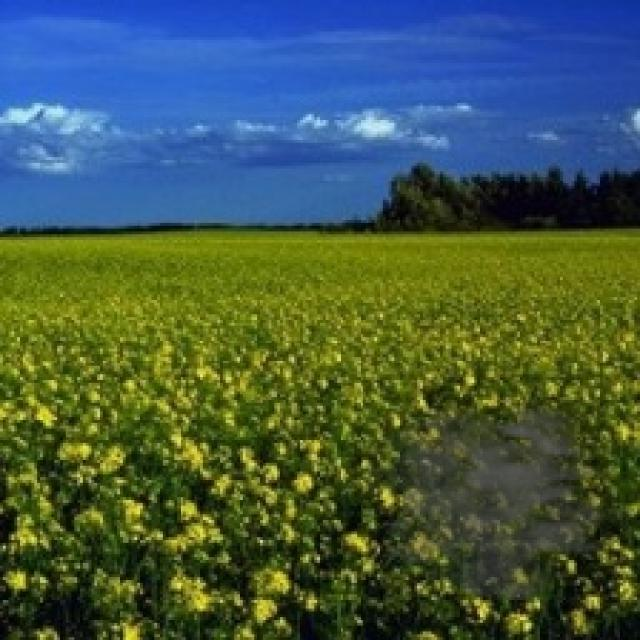smoke: (352, 389, 628, 600)
